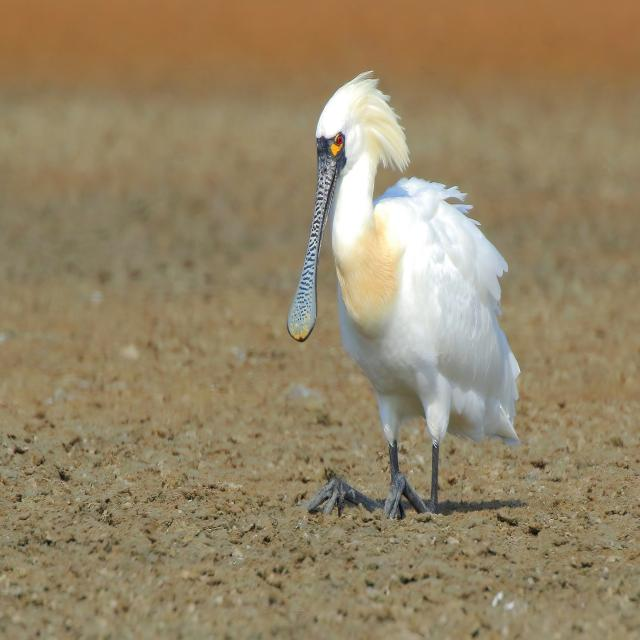Black-faced spoonbill: (288, 74, 519, 517)
